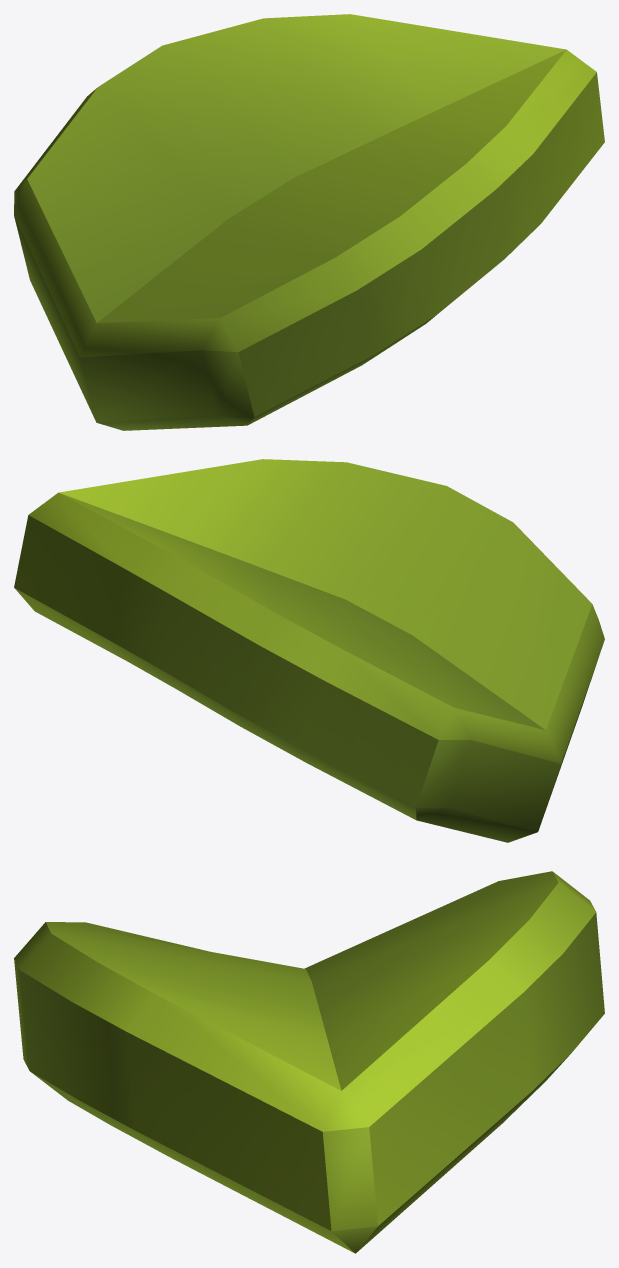
The model's file is leafs3_LOD_group.fbx.
3 renders of one model, top to bottom at view 1: azimuth 30°, elevation 25°; view 2: azimuth 150°, elevation 25°; view 3: azimuth 270°, elevation 25°, orthographic. The views are drawn at different scales.
Visible parts, largest first — view 1: leafs3_LOD0; view 2: leafs3_LOD0; view 3: leafs3_LOD0.
Boxes of the visible parts, x1=… form: leafs3_LOD0: x1=14, y1=14, x2=604, y2=430; leafs3_LOD0: x1=14, y1=459, x2=604, y2=842; leafs3_LOD0: x1=14, y1=871, x2=604, y2=1253.
Size of what is drawn, in the model's own units: 73.86 by 38.21 by 57.33.
1 material, 1 textured.
